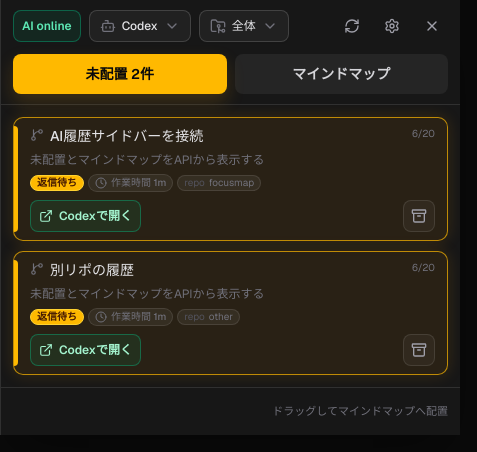
Test: CodexChatImportSidebar › defaults to all Codex chats across repos
Expected: the text "AI履歴サイドバーを接続" is shown, [50,127,203,145]
Expected: the text "別リポの履歴" is shown, [50,261,134,279]
Click the button "全体". click: (244, 26)
box: [199,10,289,42]
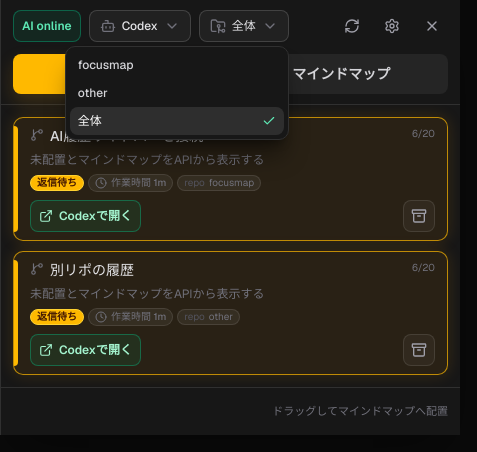
Expected: the element with id "ai-history-scope-filter" is shown, [65,46,289,140]
Click the button "focusmap". click: (177, 65)
box: [70,51,284,79]
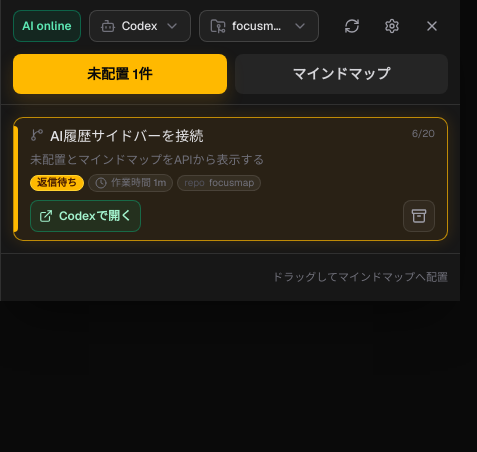
Expected: the text "AI履歴サイドバーを接続" is shown, [50,127,203,145]
Expected: the button "別リポの履歴" is gone
